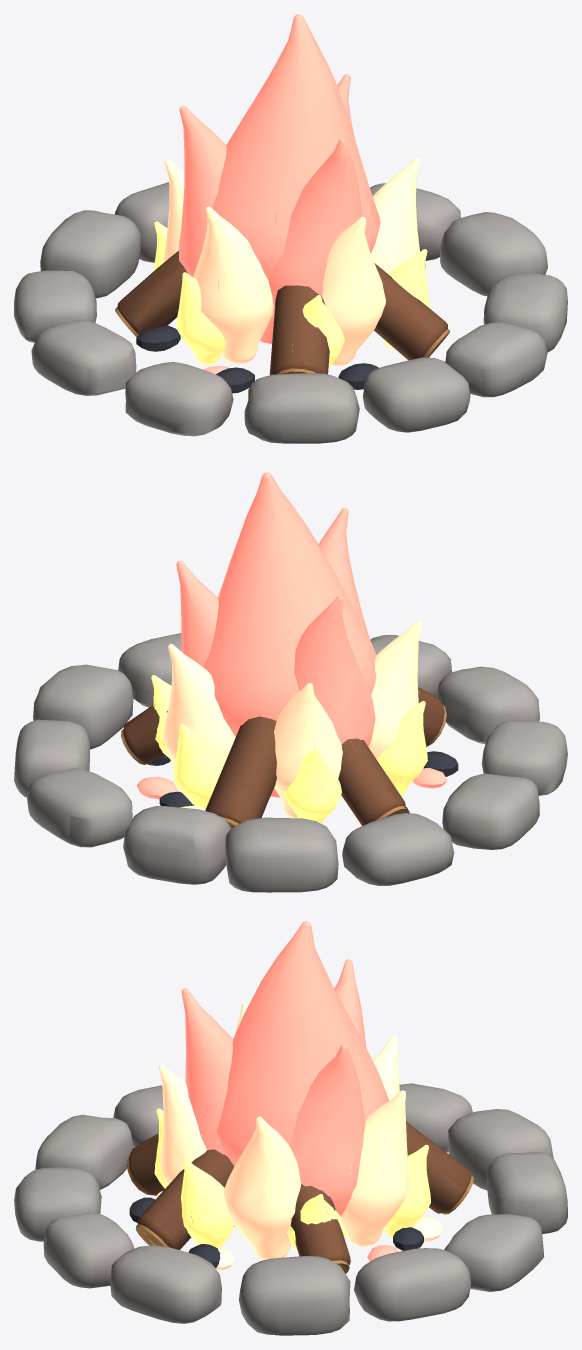
Rendered from hoguera.glb.
3 views of the same model, one above another, from view 1: azimuth 30°, elevation 25°; view 2: azimuth 150°, elevation 25°; view 3: azimuth 270°, elevation 25° (orthographic).
Visible parts, largest first — view 1: campfire_body; view 2: campfire_body; view 3: campfire_body.
Part boxes in pixels (box(x1,y1,x2,y2)): campfire_body: box(14, 14, 567, 443); campfire_body: box(14, 472, 567, 892); campfire_body: box(14, 921, 567, 1335).
Size of the model in its own units: 0.8279 by 0.5082 by 0.8254.
Materials: 4 (1 with a texture image).
